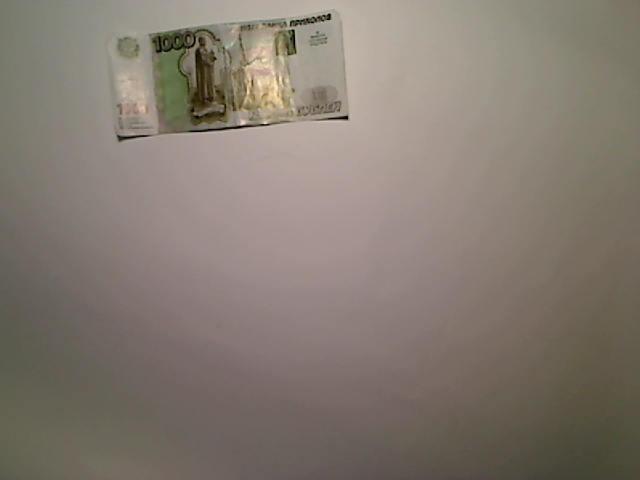banknotes: (100, 4, 353, 141)
